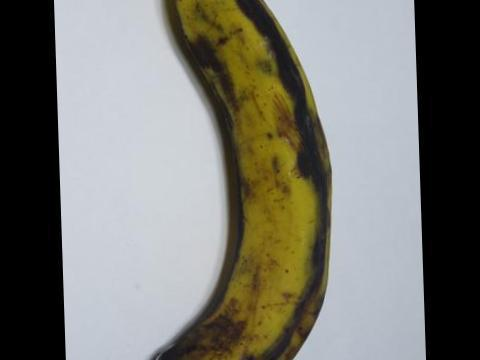overripe: (133, 0, 350, 359)
